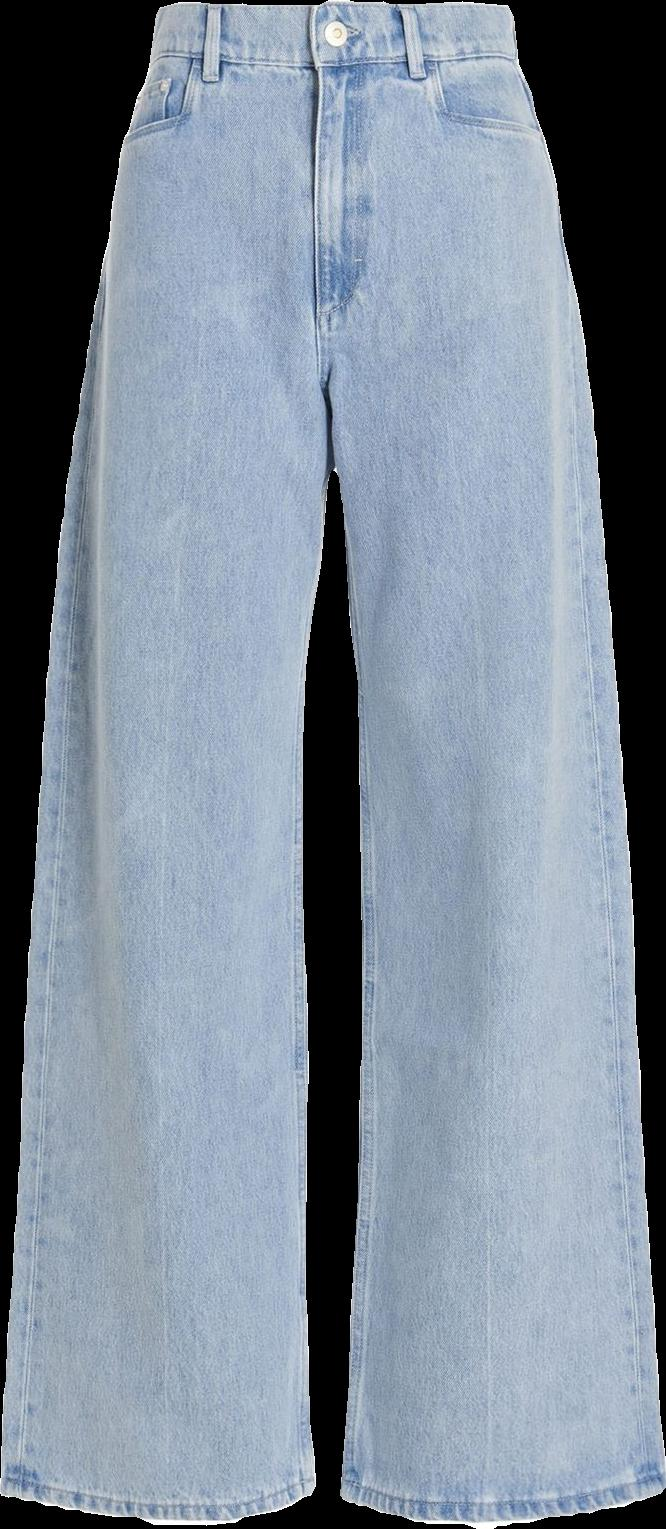Hemline: (0, 1464, 320, 1527), (339, 1477, 665, 1527)
Pantleg: (312, 0, 665, 1523), (1, 4, 327, 1522)
Waistline: (143, 39, 519, 78), (150, 0, 512, 25)
